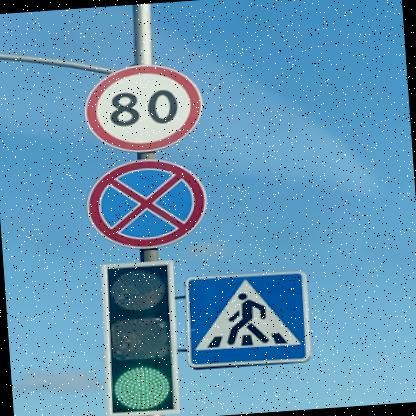crosswalk: (181, 268, 311, 368)
speedlimit: (80, 61, 206, 156)
trafficlight: (96, 259, 183, 415)
